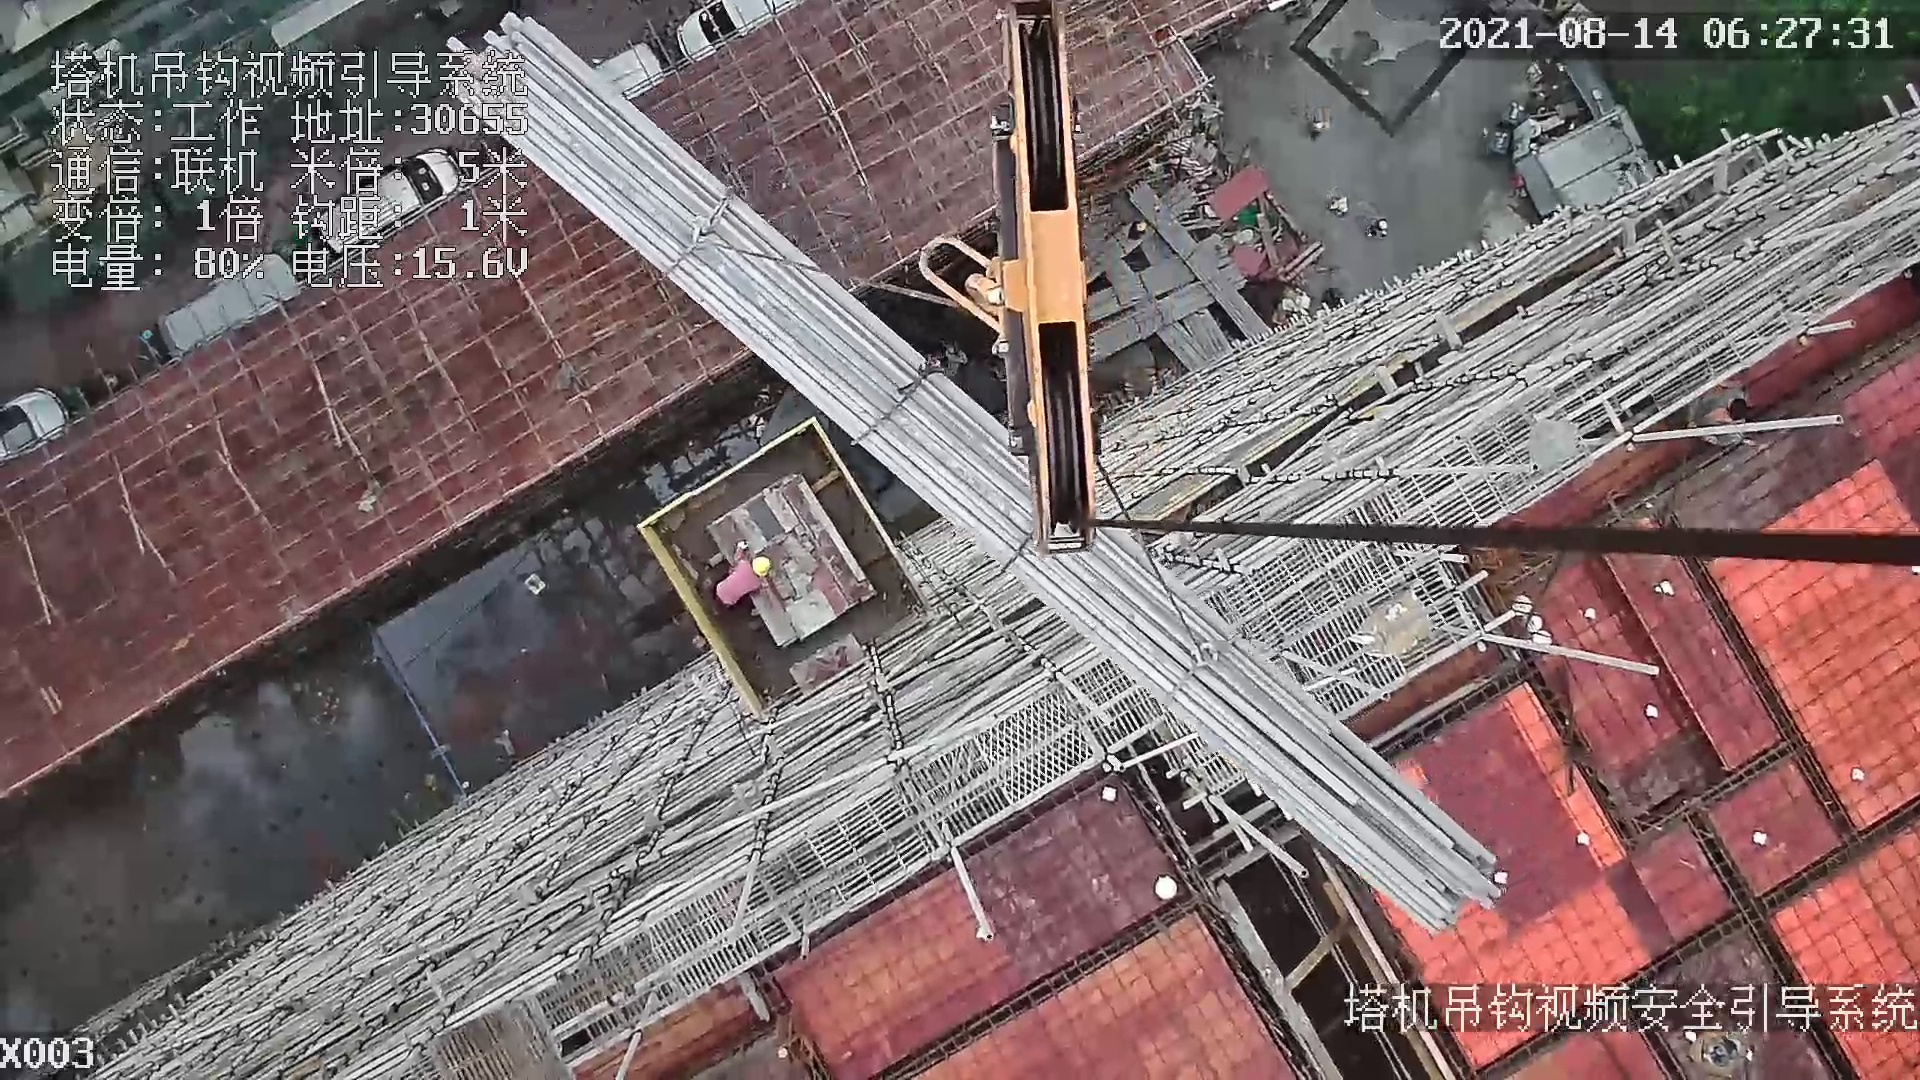helmet: (751, 551, 784, 587)
hook: (992, 1, 1105, 561)
person: (1693, 374, 1759, 450), (712, 542, 770, 614)
